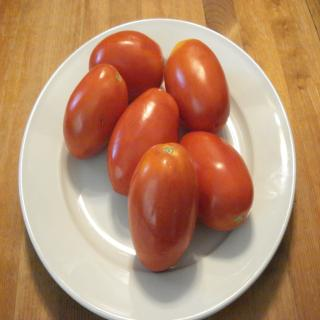tomato: (126, 139, 197, 273), (107, 86, 180, 196), (177, 130, 255, 230), (165, 36, 232, 132), (64, 64, 128, 160), (88, 29, 165, 101)
